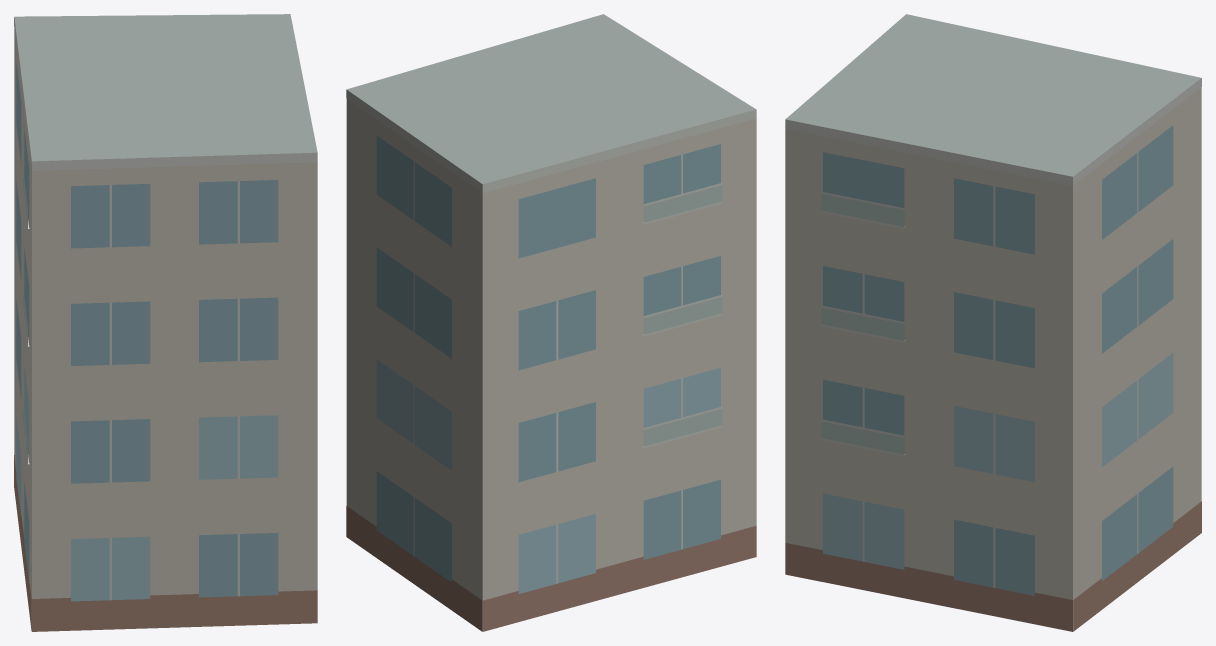
Rendered from survey-upis-32954126.glb.
3 views of the same model, side by side, from view 1: azimuth 30°, elevation 25°; view 2: azimuth 150°, elevation 25°; view 3: azimuth 270°, elevation 25° (orthographic). The views are drawn at different scales.
Parts seen in each view (by area): view 1: survey-upis-32954126.tmp; view 2: survey-upis-32954126.tmp; view 3: survey-upis-32954126.tmp.
Part boxes in pixels (bbox=[...]): survey-upis-32954126.tmp: bbox=[14, 14, 317, 631]; survey-upis-32954126.tmp: bbox=[346, 14, 756, 631]; survey-upis-32954126.tmp: bbox=[785, 14, 1201, 631].
Bounding box in the file's own units: 9.33 × 12.15 × 10.09.
